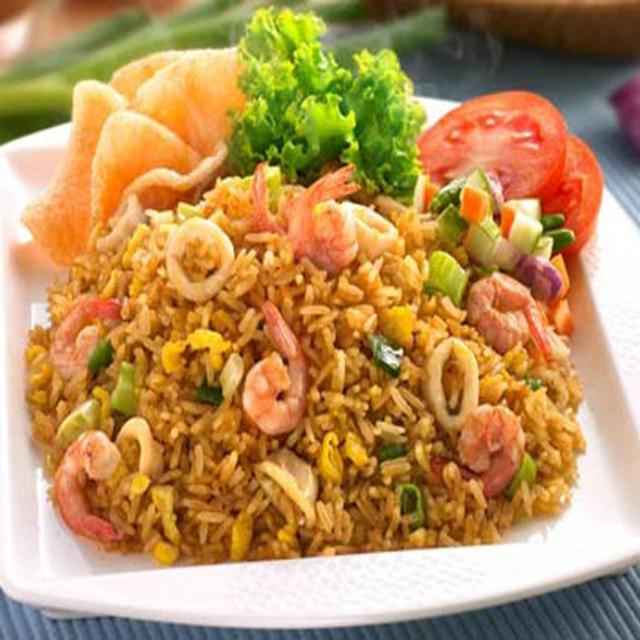Nasi Goreng: (11, 142, 608, 564)
